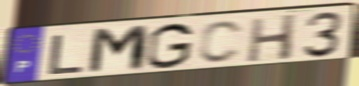3: (303, 10, 345, 59)
C: (196, 19, 245, 65)
G: (145, 22, 196, 71)
H: (245, 12, 299, 64)
L: (46, 33, 87, 77)
M: (86, 23, 152, 76)
